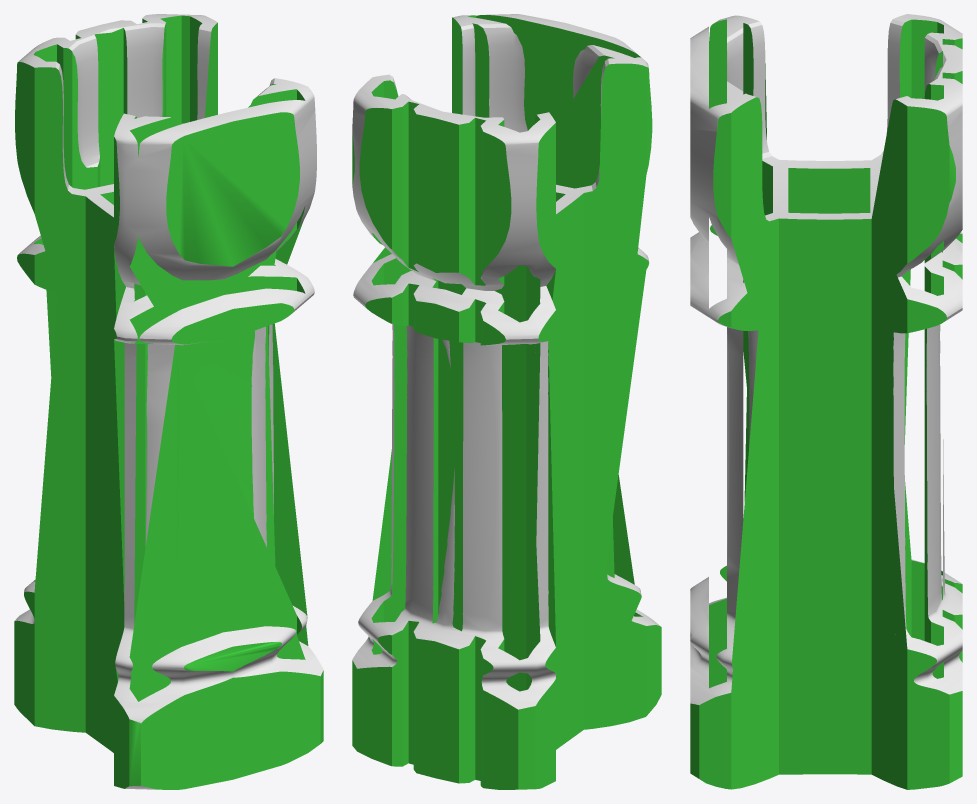
File: White_Rook.fbx
The picture shows the model from 3 angles, left to right: view 1: azimuth 30°, elevation 25°; view 2: azimuth 150°, elevation 25°; view 3: azimuth 270°, elevation 25°; orthographic projection. The views are drawn at different scales.
Visible parts, largest first — view 1: White_Rook; view 2: White_Rook; view 3: White_Rook.
Boxes of the visible parts, x1,y1,x2,y2 form: White_Rook: (14, 14, 323, 789); White_Rook: (352, 14, 661, 789); White_Rook: (690, 14, 962, 789).
Bounding box in the file's own units: 34.05 × 39.82 × 111.
